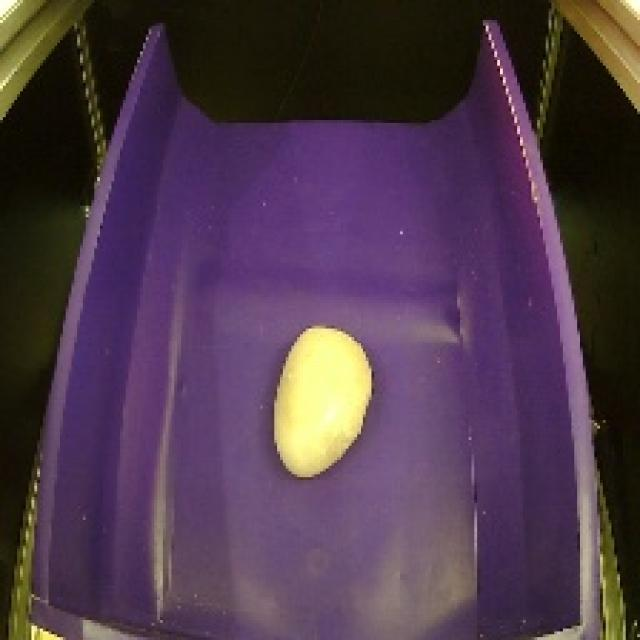cobbles: (263, 316, 380, 485)
